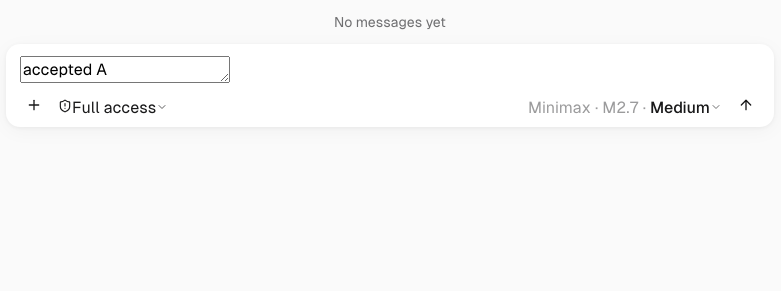
Scenario: ChatView › retains the accepted attempt when its retry fails before run_started
Expected: the button "Minimax · M2.7 · Medium" is shown, [522, 96, 728, 119]
Click the button named "send" at (746, 108), box [732, 96, 760, 119]
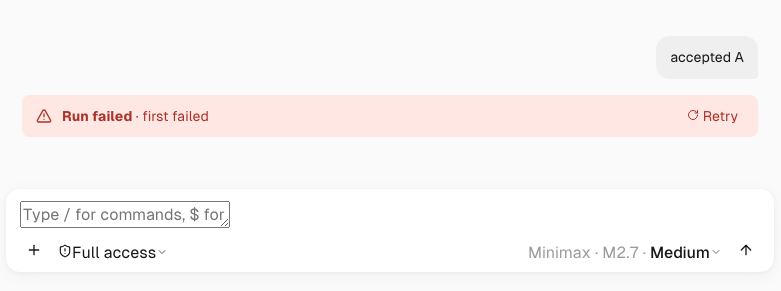
Expected: the text "Run failed · first failed" is shown, [62, 108, 209, 124]
Click the button "Retry" at (712, 116), box [681, 105, 744, 127]
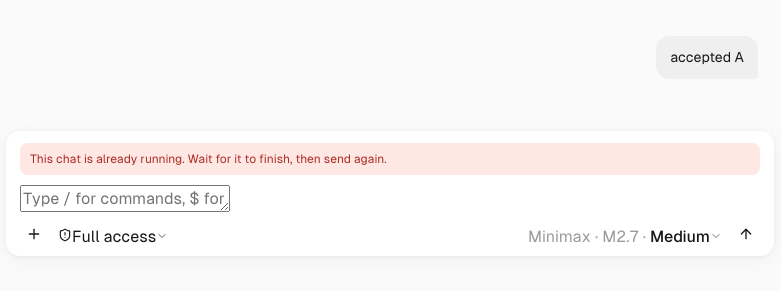
Expected: the text "accepted A" is shown, [656, 36, 758, 79]
Expected: the message shows "This chat is already running", [30, 152, 387, 166]
Expected: the button "Retry" is gone
